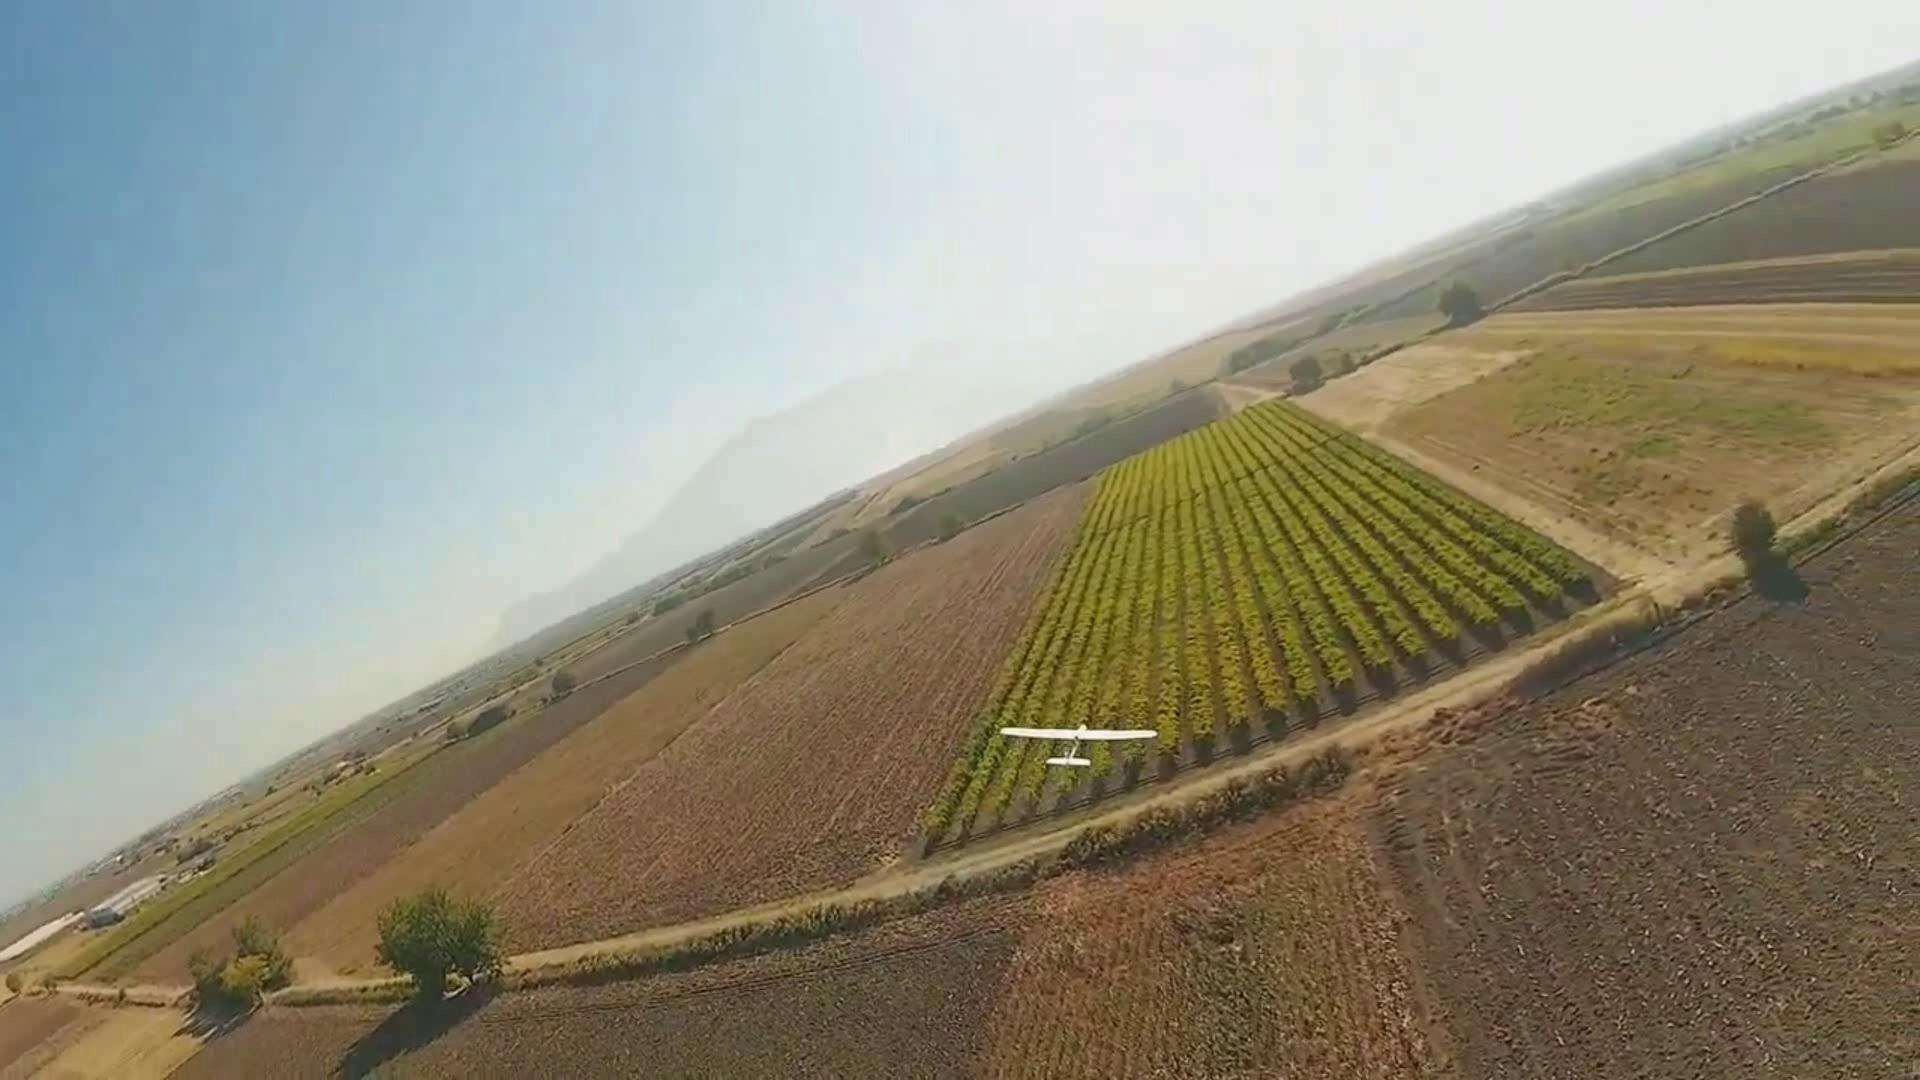airplane: (46, 62, 1917, 884)
